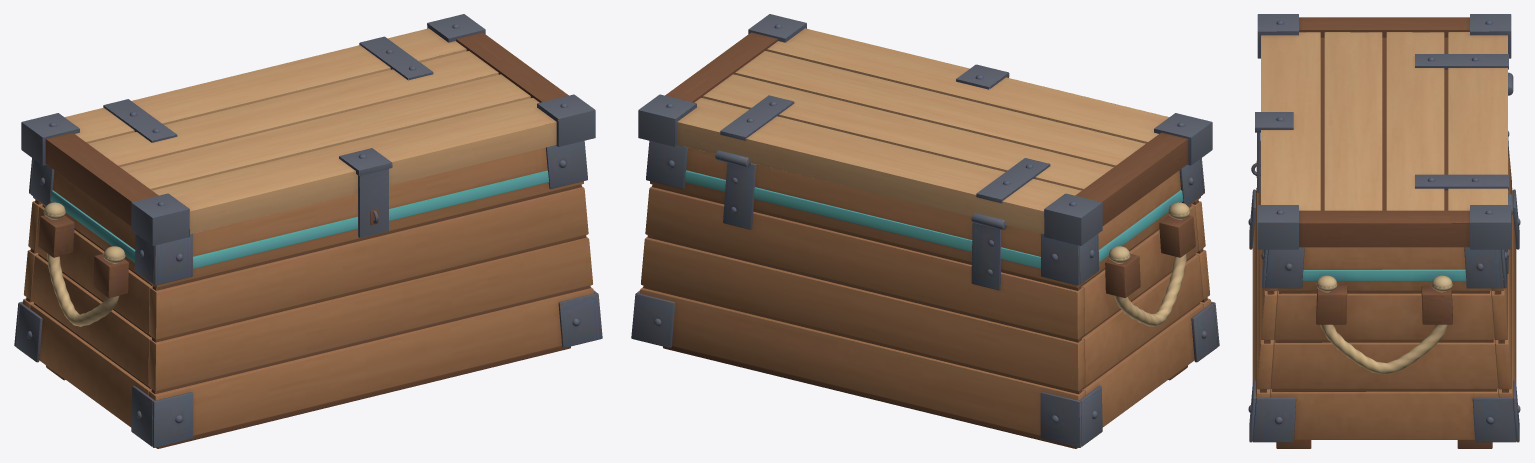
Rendered from cofre_marino.glb.
The picture shows the model from 3 angles, left to right: view 1: azimuth 30°, elevation 25°; view 2: azimuth 150°, elevation 25°; view 3: azimuth 270°, elevation 25°; orthographic projection. The views are drawn at different scales.
Parts seen in each view (by area): view 1: sea-chest_body; view 2: sea-chest_body; view 3: sea-chest_body.
Part boxes in pixels (left/top/right/bottom): sea-chest_body: left=14, top=14, right=602, bottom=448; sea-chest_body: left=631, top=14, right=1219, bottom=448; sea-chest_body: left=1248, top=14, right=1520, bottom=448.
Bounding box in the file's own units: 0.9692 × 0.4745 × 0.4955.
Materials: 2 (2 with a texture image).
